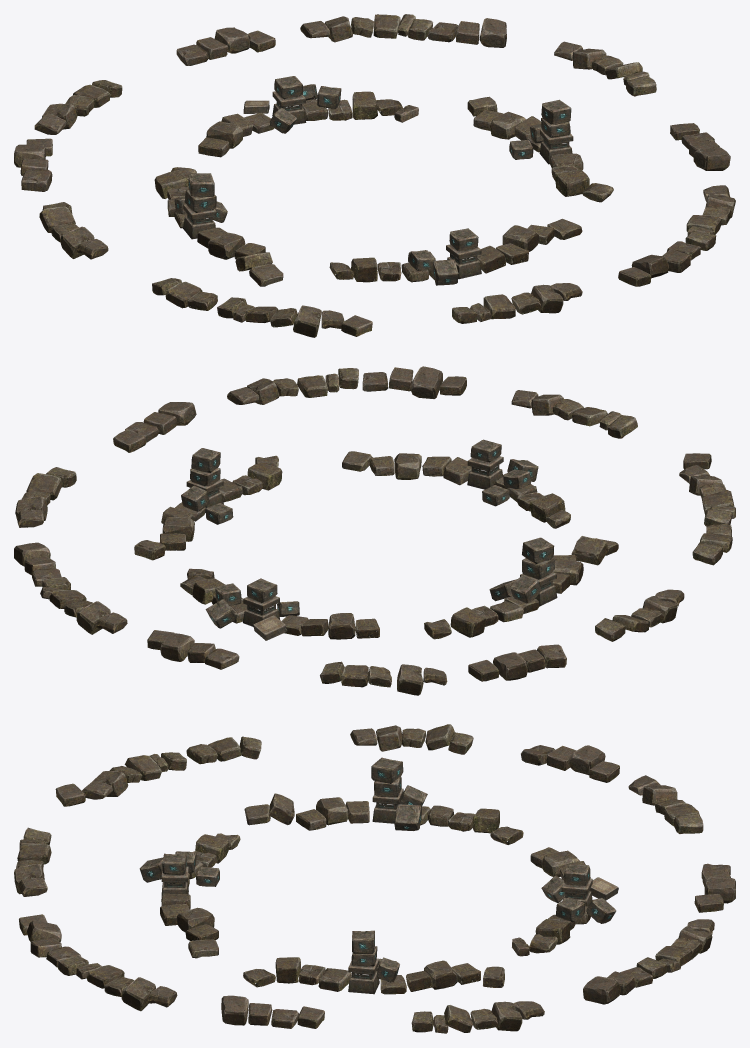
The model's file is miniboss_10-1.glb.
3 renders of one model, top to bottom at view 1: azimuth 30°, elevation 25°; view 2: azimuth 150°, elevation 25°; view 3: azimuth 270°, elevation 25°, orthographic.
Visible parts, largest first — view 1: miniboss_10; view 2: miniboss_10; view 3: miniboss_10.
Part boxes in pixels (left/top/right/bottom): miniboss_10: left=14, top=14, right=735, bottom=337; miniboss_10: left=14, top=366, right=735, bottom=695; miniboss_10: left=14, top=724, right=735, bottom=1033.
Bounding box in the file's own units: 289 × 25.87 × 294.
2 materials, 2 textured.
